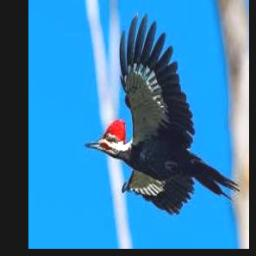Woodpecker: (85, 12, 240, 214)
